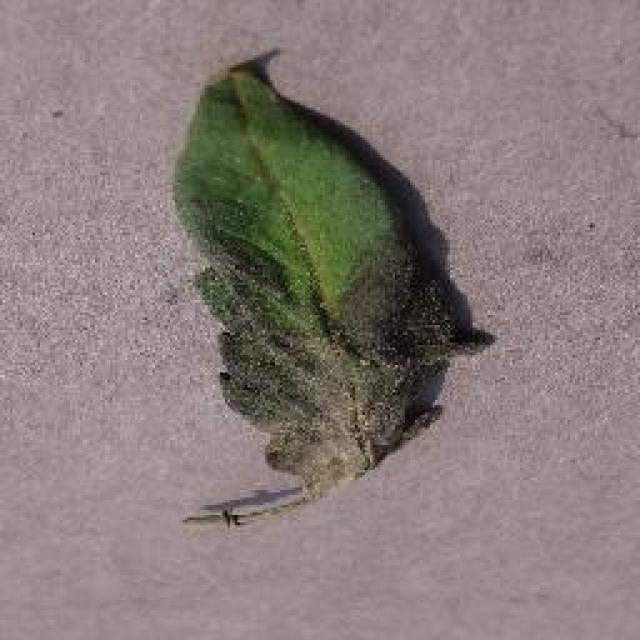Tomato Late Blight: (195, 260, 452, 530)
